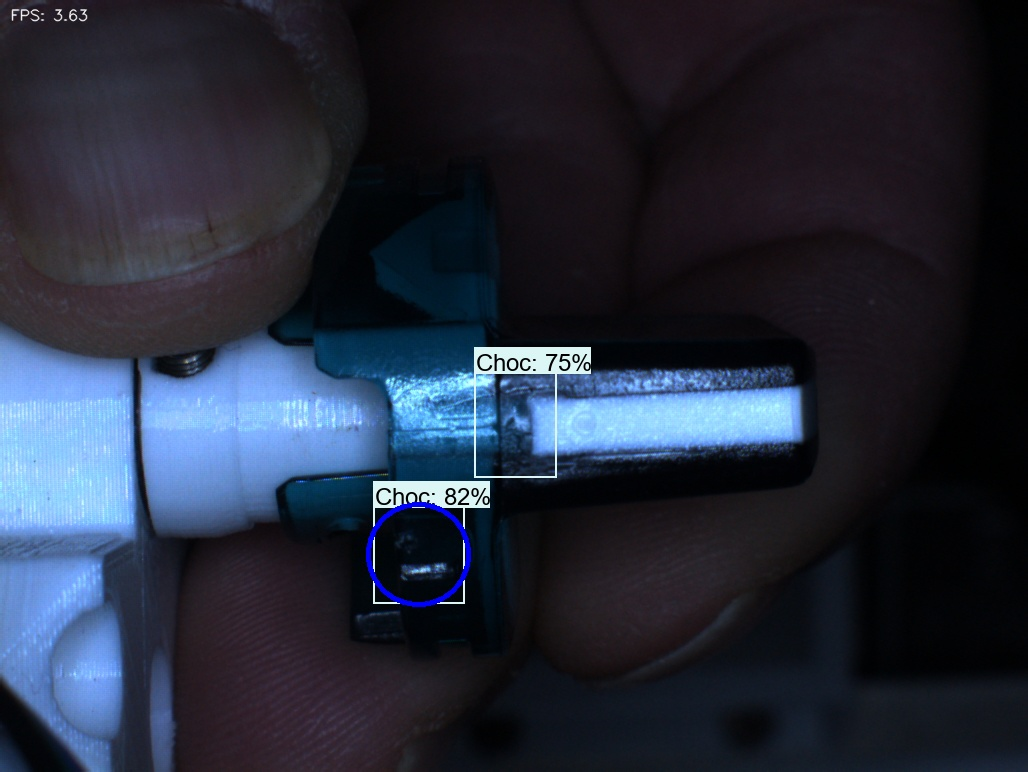DentOk: (342, 218, 410, 300)
